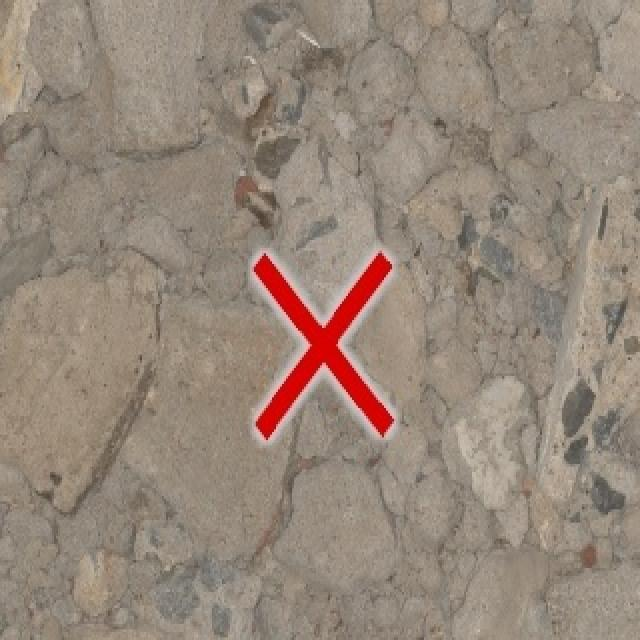x_marker: (253, 252, 393, 439)
